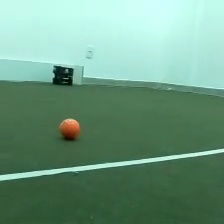ball: (57, 116, 82, 142)
goal: (1, 56, 85, 87)
robot: (51, 63, 74, 87)
